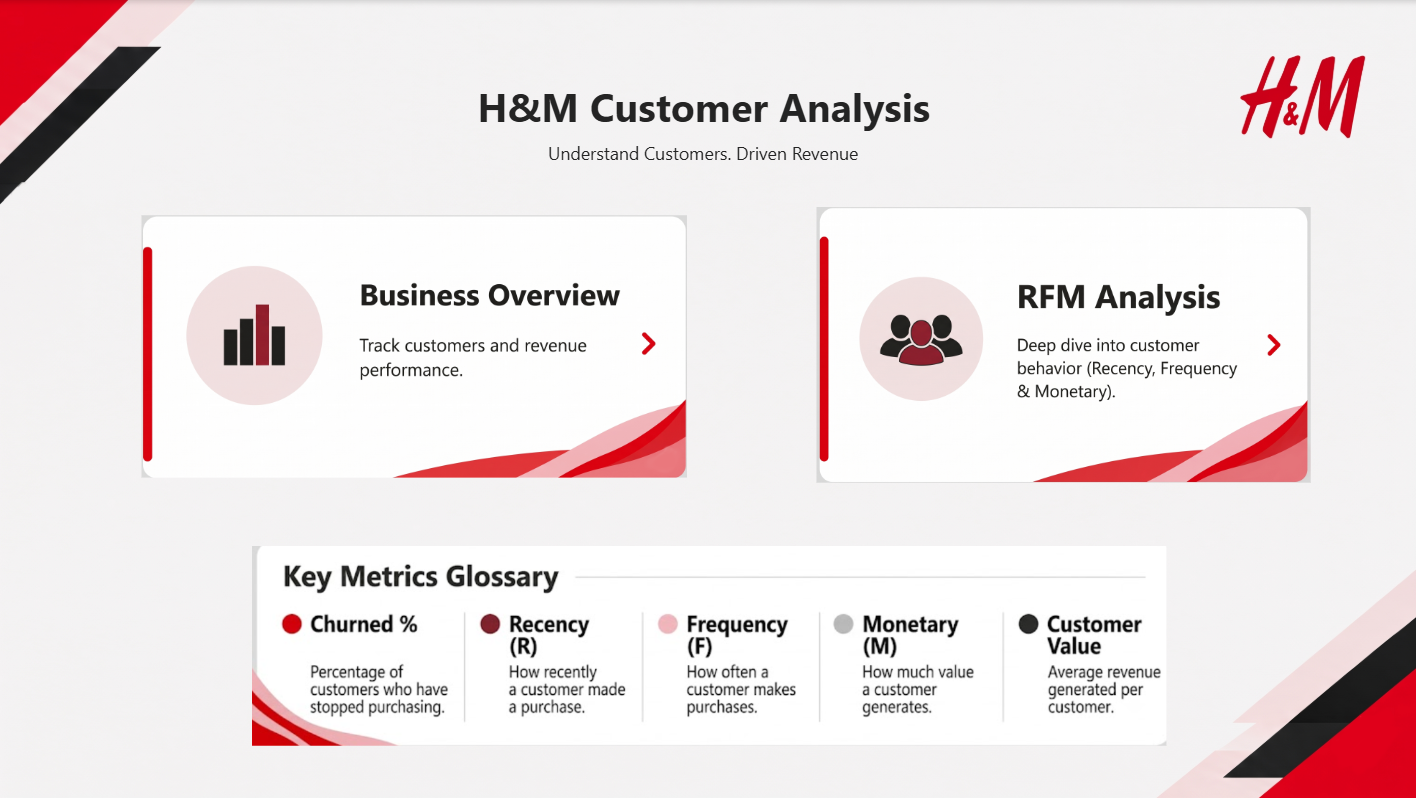

What the dashboard file says about the page in this screenshot:
{"tool":"powerbi","page":{"name":"HOME ","canvas":[1920,1080],"ordinal":0},"visuals":[{"type":"textbox","box":[647.5,107.5,625,82.5],"z":0},{"type":"textbox","box":[742.5,190,435,40],"z":1},{"type":"textbox","box":[150,370,300,300],"z":2},{"type":"image","box":[192.5,265,737.5,405],"z":3},{"type":"image","box":[960,280,960,372.5],"z":4},{"type":"image","box":[0,737.5,1920,270],"z":5},{"type":"actionButton","box":[215,307.5,692.5,320],"z":6},{"type":"actionButton","box":[1127.5,307.5,625,320],"z":7}]}

Visuals, with their boxes in screenshot pixels (x1, y1, x2, y2), scaled from the page's 1920x1080 canvas onto the 1416x798 screenshot:
textbox: rect(478, 79, 938, 140)
textbox: rect(548, 140, 868, 170)
textbox: rect(111, 273, 332, 495)
image: rect(142, 196, 686, 495)
image: rect(708, 207, 1415, 482)
image: rect(0, 545, 1415, 744)
actionButton: rect(159, 227, 669, 464)
actionButton: rect(832, 227, 1292, 464)
